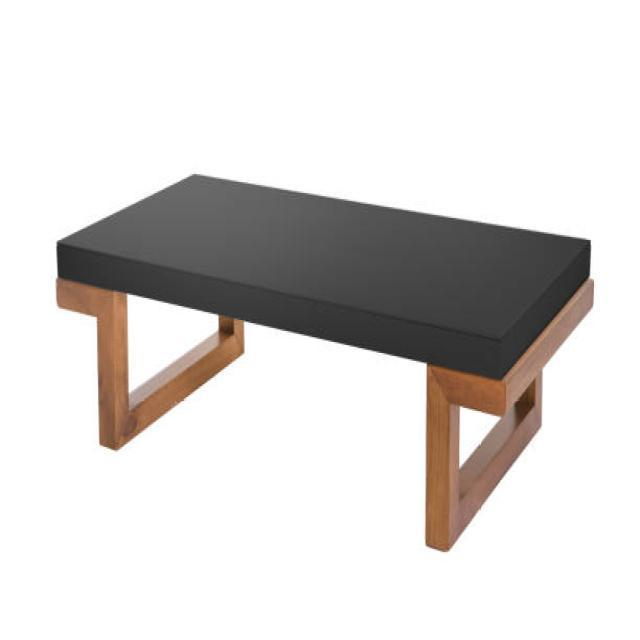table: (54, 170, 594, 550)
